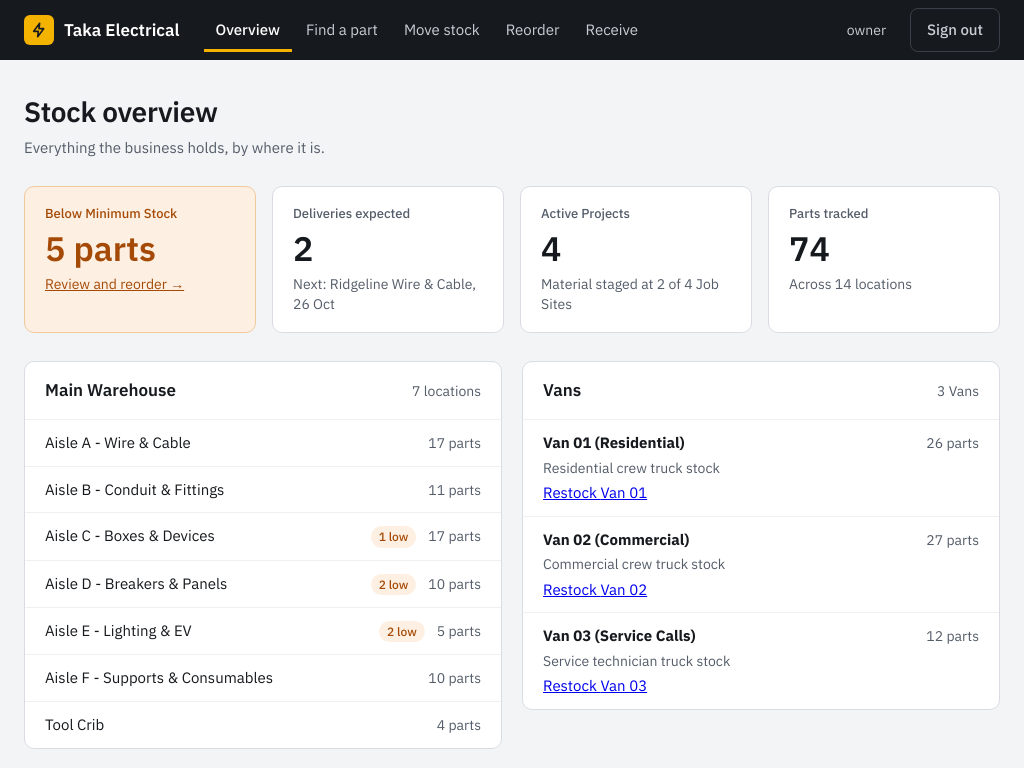
Move stock › is in the navigation
This screenshot has width=1024, height=768.
Click the link "Move stock".
click(442, 30)  # box [404,20,480,39]
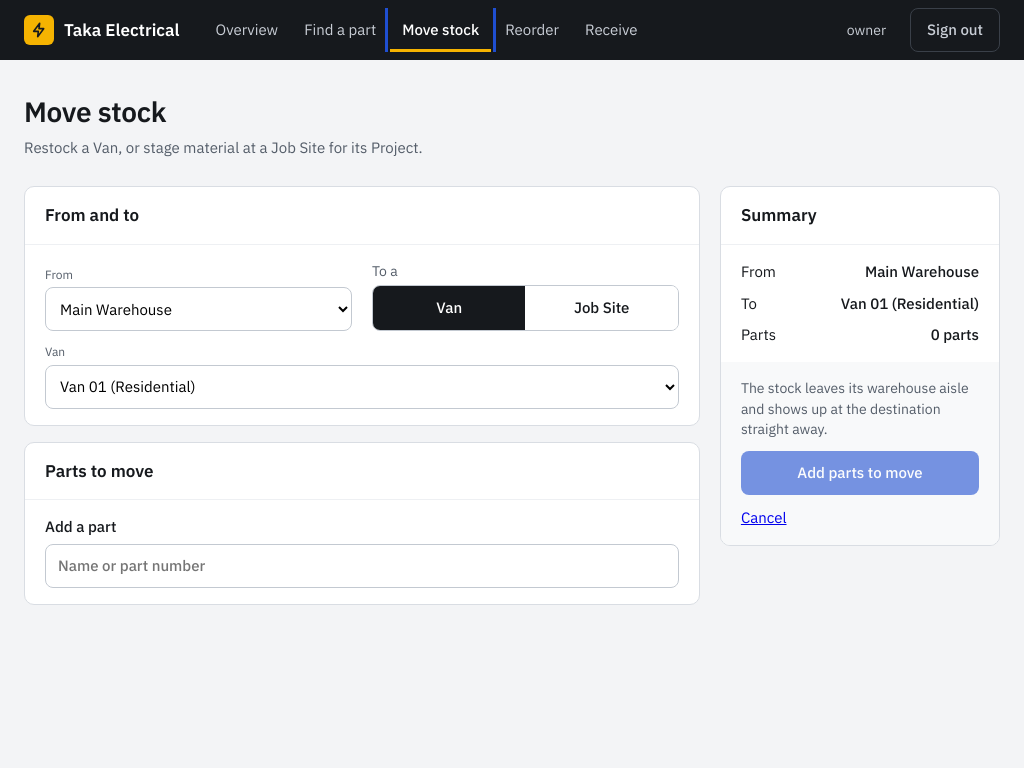
Check: the heading "Move stock" is shown, box [24,93,166,130]
Check: the element "Parts to move" is shown, box [24,442,700,605]
